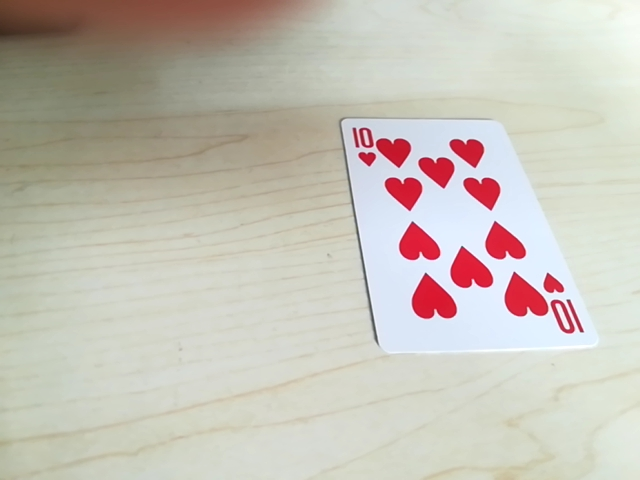hx 10: (352, 125, 401, 171), (546, 292, 581, 340)
